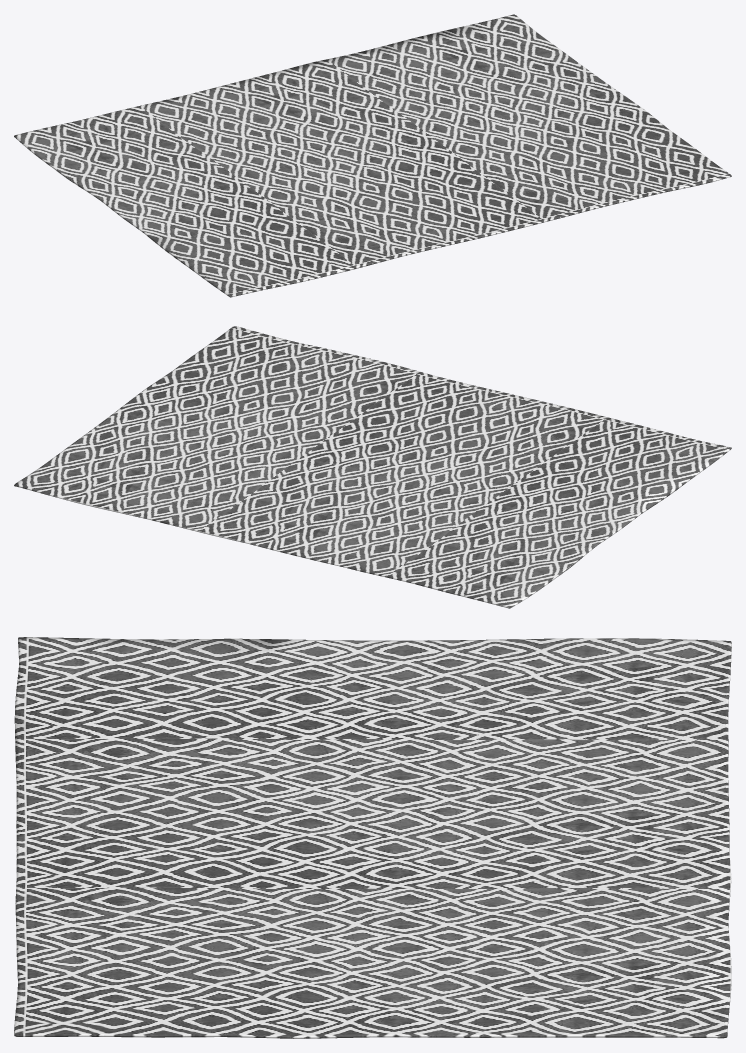
The model's file is Alfombra1.fbx.
3 renders of one model, top to bottom at view 1: azimuth 30°, elevation 25°; view 2: azimuth 150°, elevation 25°; view 3: azimuth 270°, elevation 25°, orthographic. The views are drawn at different scales.
Parts seen in each view (by area): view 1: Group3_1_1; view 2: Group3_1_1; view 3: Group3_1_1.
Boxes of the visible parts, left/top/right/bottom form: Group3_1_1: left=14, top=14, right=731, bottom=297; Group3_1_1: left=14, top=326, right=731, bottom=608; Group3_1_1: left=14, top=637, right=731, bottom=1038.
Bounding box in the file's own units: 117 × 0.6477 × 89.29.
